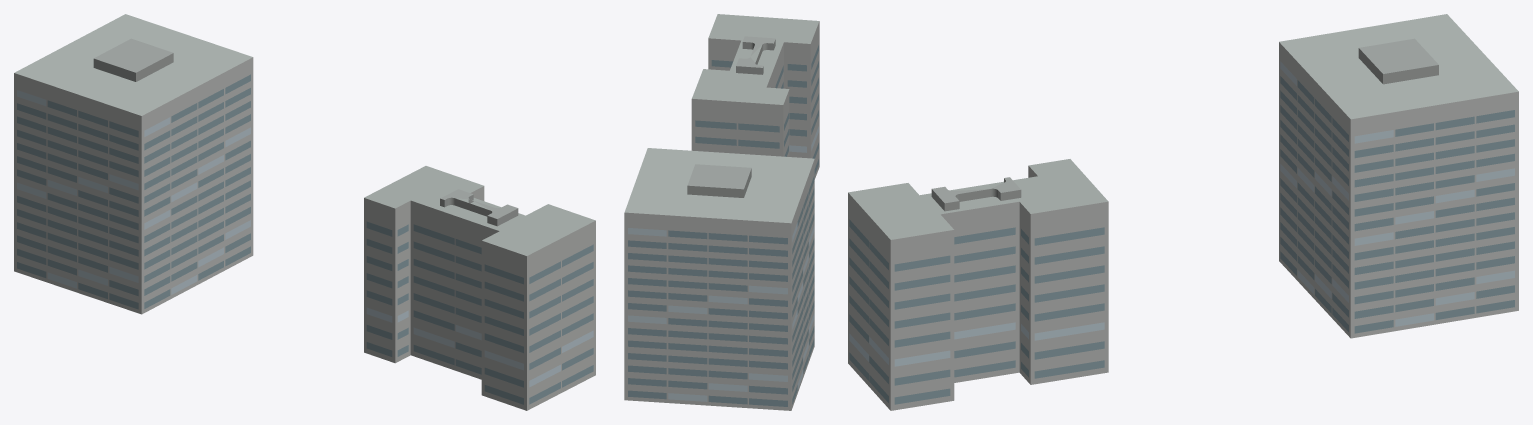
Rendered from apt-a13501002.glb.
3 renders of one model, left to right at view 1: azimuth 30°, elevation 25°; view 2: azimuth 150°, elevation 25°; view 3: azimuth 270°, elevation 25°, orthographic. The views are drawn at different scales.
Parts seen in each view (by area): view 1: apt-a13501002; view 2: apt-a13501002; view 3: apt-a13501002.
Part boxes in pixels (bbox=[...]): apt-a13501002: bbox=[14, 14, 595, 410]; apt-a13501002: bbox=[624, 14, 819, 410]; apt-a13501002: bbox=[848, 14, 1518, 410].
Bounding box in the file's own units: 83.09 × 50 × 132.
